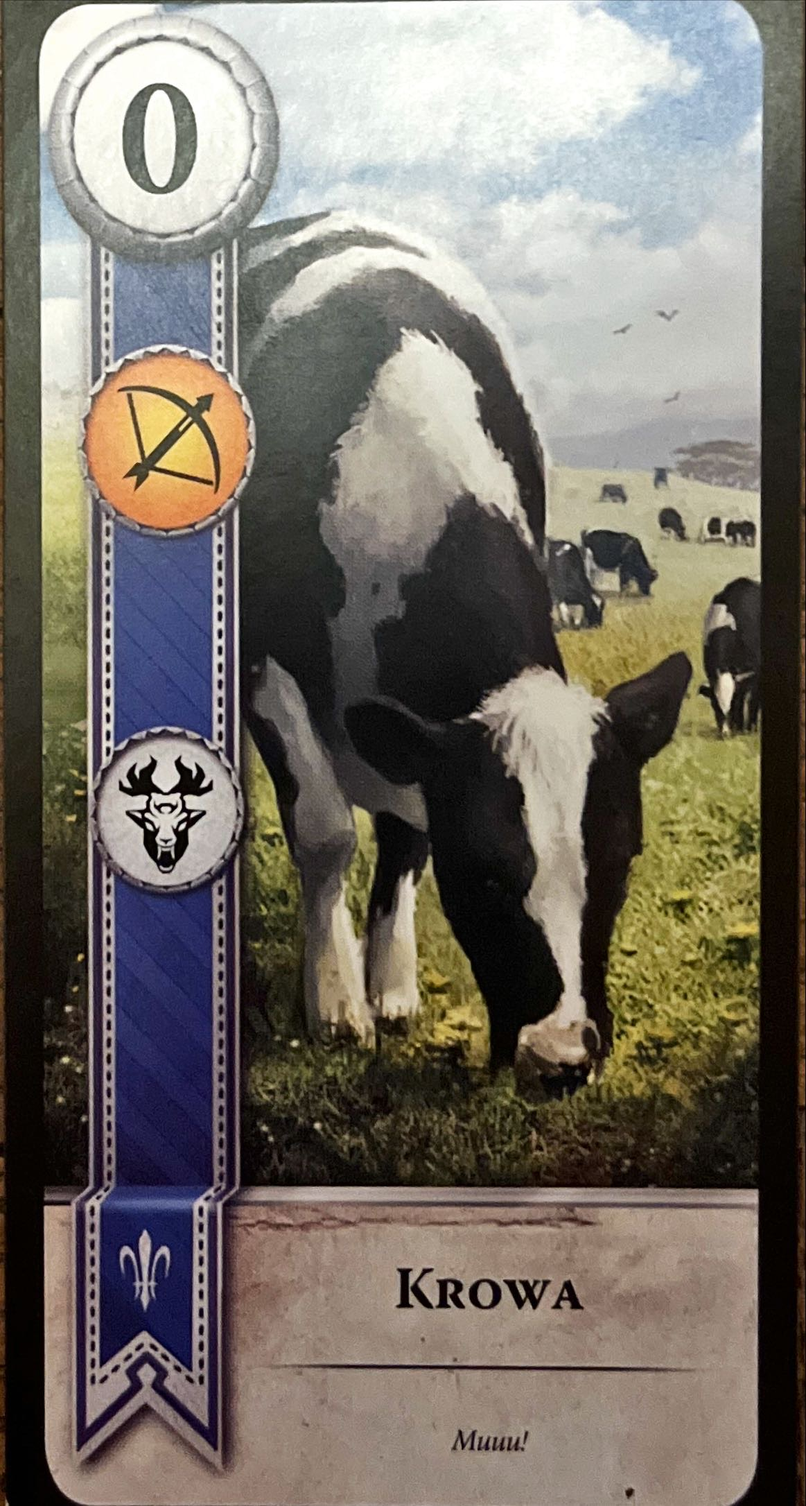0: (44, 16, 282, 262)
lucznik: (79, 344, 256, 534)
